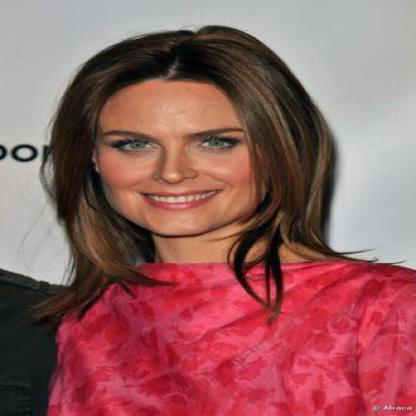long-hair: (36, 237, 348, 276)
